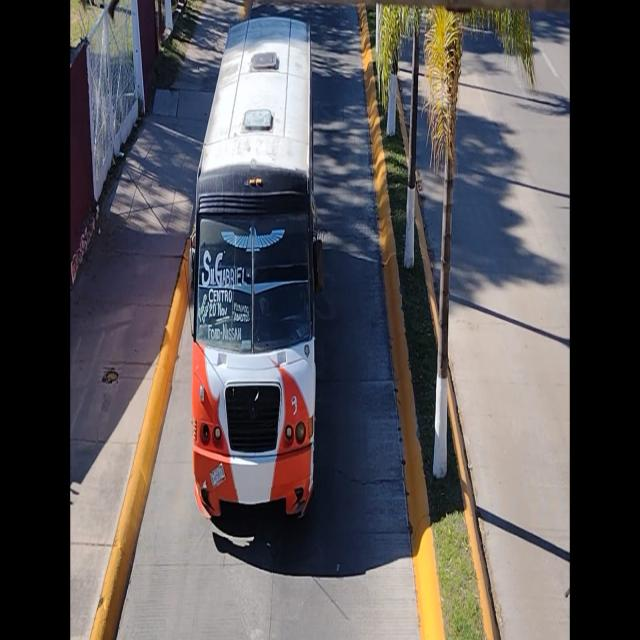Autobus: (190, 18, 315, 551)
